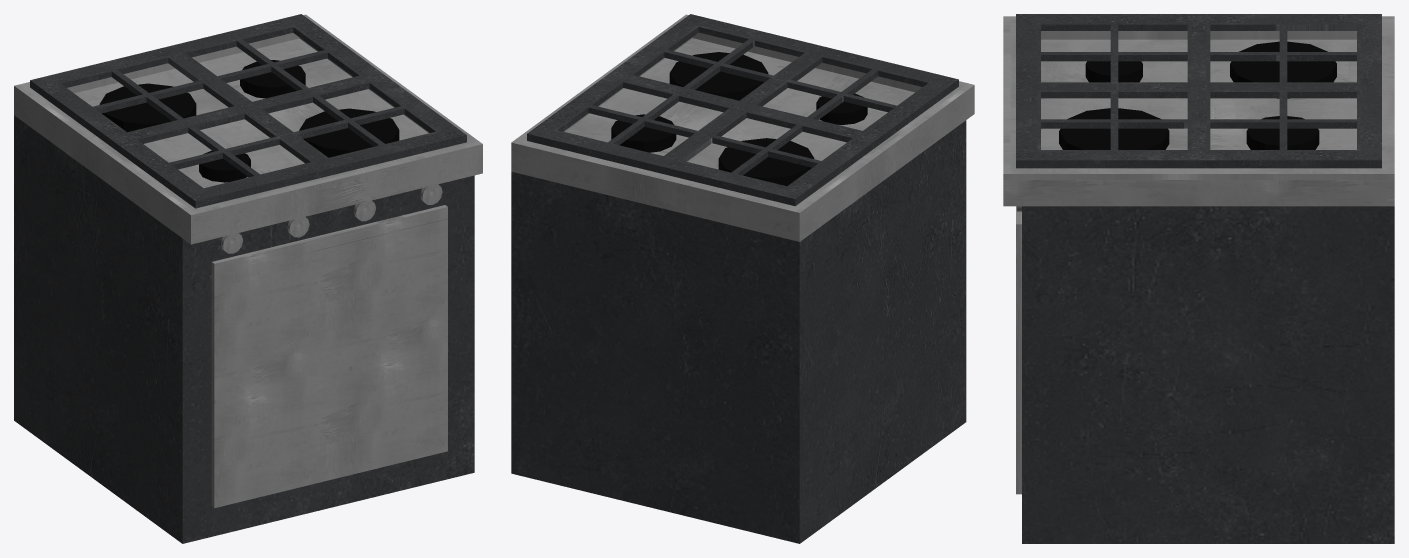
Rendered from stove.fbx.
3 views of the same model, side by side, from view 1: azimuth 30°, elevation 25°; view 2: azimuth 150°, elevation 25°; view 3: azimuth 270°, elevation 25° (orthographic). The views are drawn at different scales.
Parts seen in each view (by area): view 1: Stove; view 2: Stove; view 3: Stove.
Part boxes in pixels (x1=…): Stove: x1=14, y1=14, x2=482, y2=543; Stove: x1=511, y1=14, x2=974, y2=543; Stove: x1=1003, y1=14, x2=1394, y2=543.
Bounding box in the file's own units: 105 × 100 × 112.
